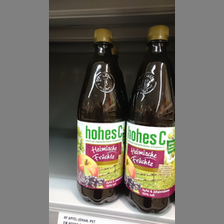juice: (74, 28, 128, 204), (126, 25, 175, 213)
